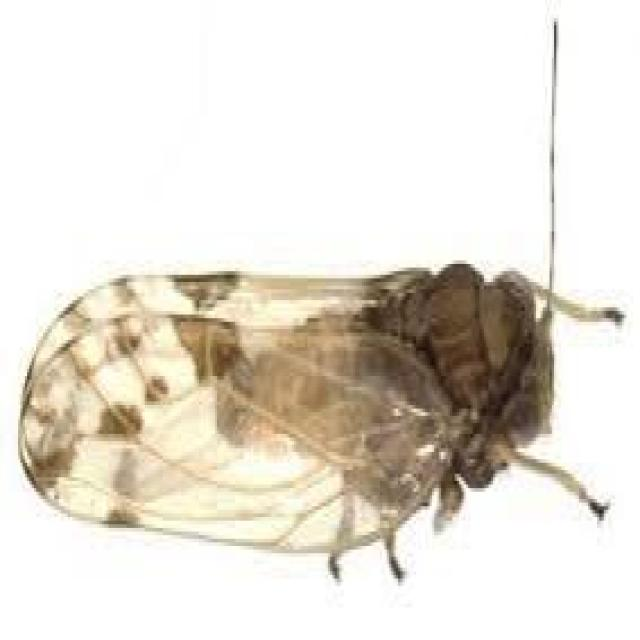Psyllid: (15, 3, 638, 598)
